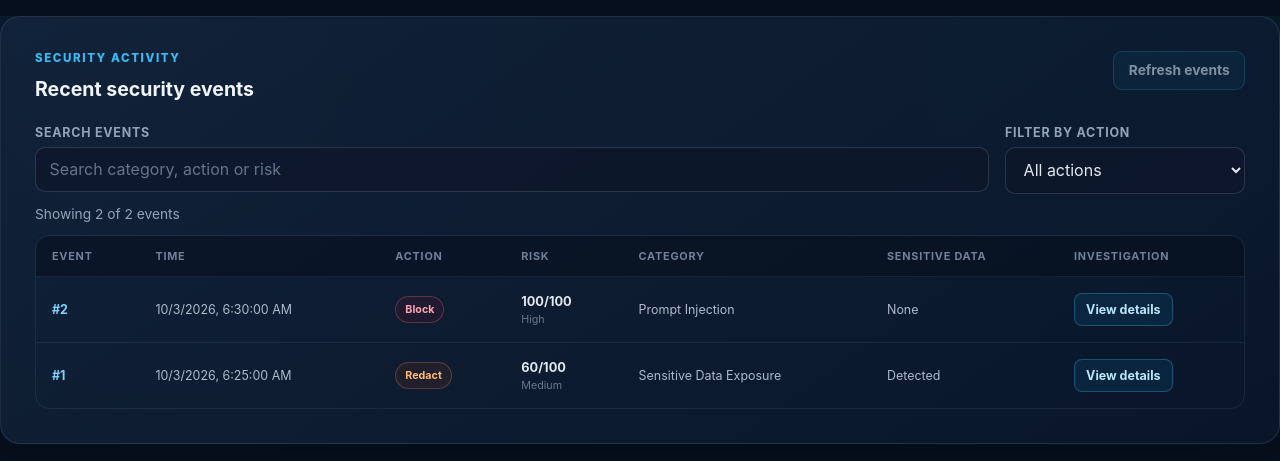
RecentEvents › clears filters when no events match
Step 1. Type "does-not-exist" into the search field labelled "Search events" → (512,169), box left=35, top=147, right=989, bottom=192
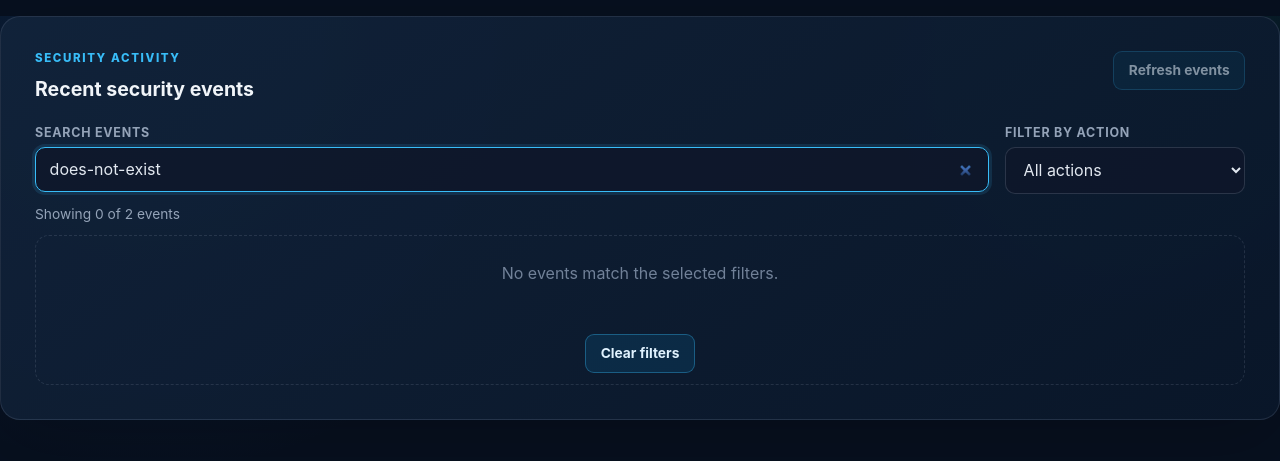
expect the text "No events match the selected filters." is shown: met, box left=502, top=264, right=778, bottom=284
Step 2. Click the button "Clear filters" → (640,354), box left=585, top=334, right=695, bottom=373
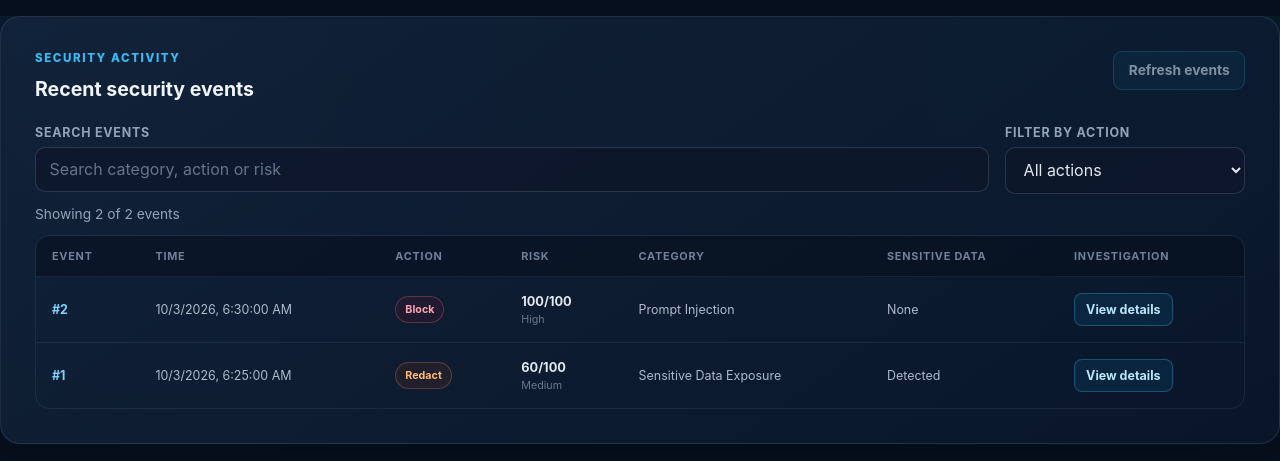
expect the search field labelled "Search events" is empty: met, box left=35, top=147, right=989, bottom=192
expect the text "#2" is shown: met, box left=36, top=277, right=139, bottom=343
expect the text "#1" is shown: met, box left=36, top=343, right=139, bottom=408
